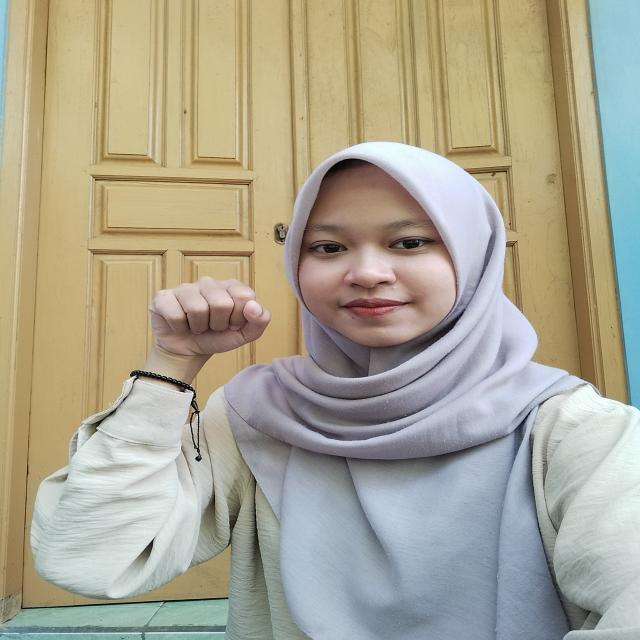baik: (81, 270, 286, 437)
